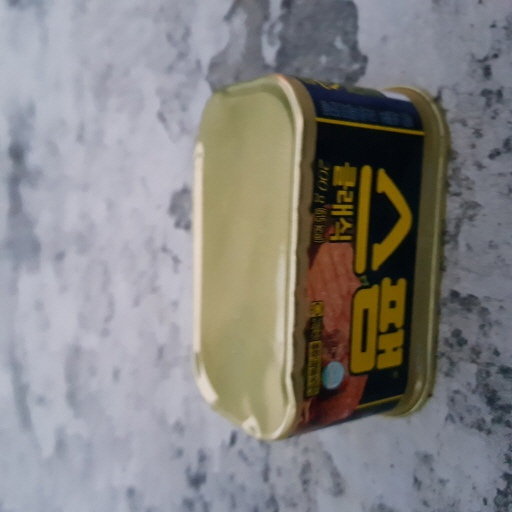Metal_2: (194, 70, 451, 444)
